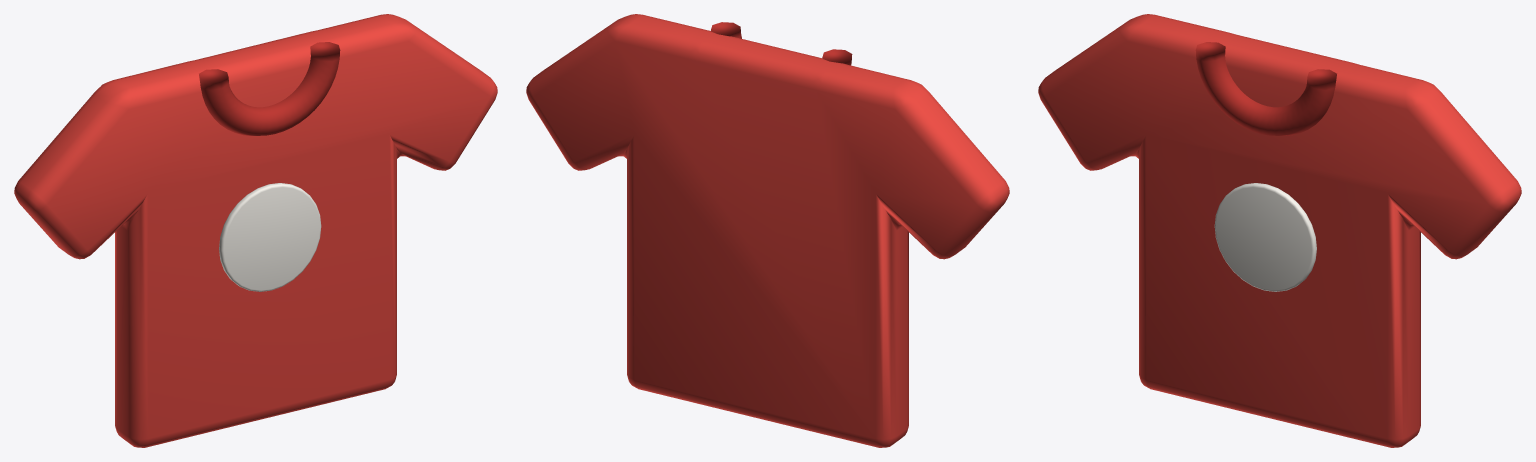
The model's file is item_tshirt.fbx.
3 views of the same model, side by side, from view 1: azimuth 30°, elevation 25°; view 2: azimuth 150°, elevation 25°; view 3: azimuth 330°, elevation 25° (orthographic).
Visible parts, largest first — view 1: item_tshirt; view 2: item_tshirt; view 3: item_tshirt.
Boxes of the visible parts, box(x1,y1,x2,y2) form: item_tshirt: box(14, 14, 497, 447); item_tshirt: box(526, 14, 1009, 447); item_tshirt: box(1038, 14, 1521, 447).
Bounding box in the file's own units: 0.4203 × 0.31 × 0.053.
